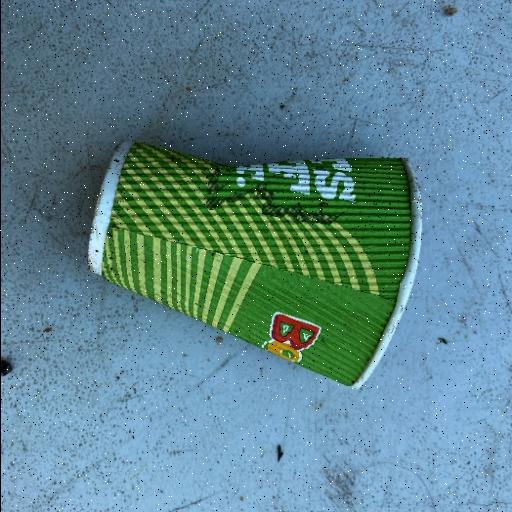Cardboard: (86, 139, 423, 390)
